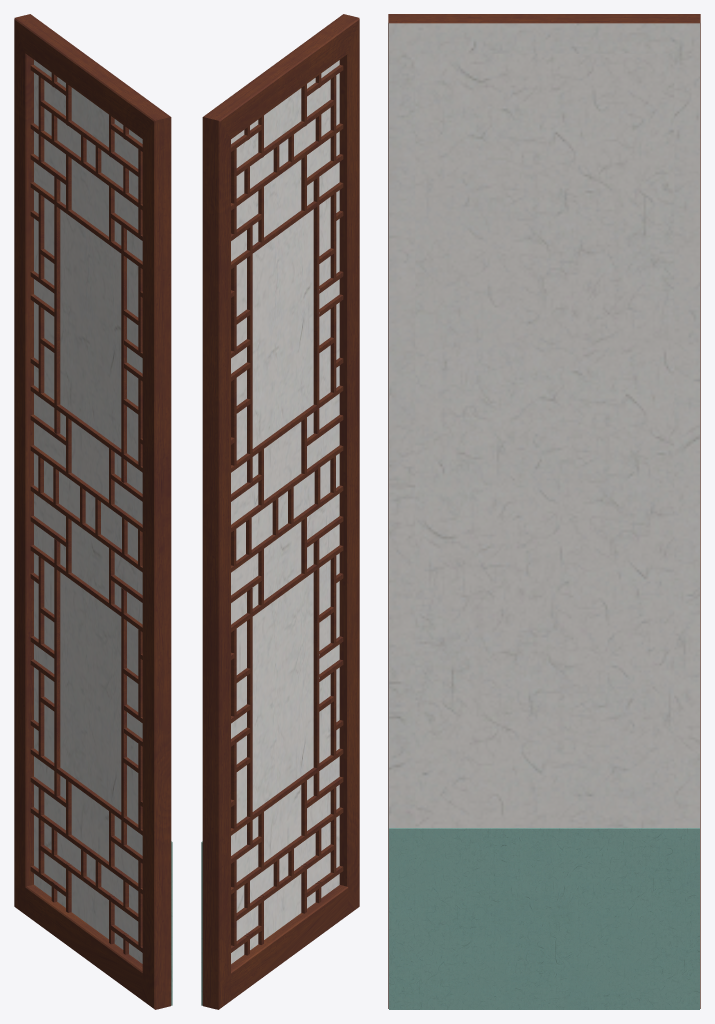
File: SM_Door16G.fbx
3 views of the same model, side by side, from view 1: azimuth 30°, elevation 25°; view 2: azimuth 150°, elevation 25°; view 3: azimuth 270°, elevation 25° (orthographic). The views are drawn at different scales.
Parts seen in each view (by area): view 1: SM_Door16G; view 2: SM_Door16G; view 3: SM_Door16G.
Part boxes in pixels (x1,y1,x2,y2): SM_Door16G: (14, 14, 172, 1009); SM_Door16G: (201, 14, 359, 1009); SM_Door16G: (388, 14, 700, 1009).
Bounding box in the file's own units: 3.77 × 49.31 × 172.
